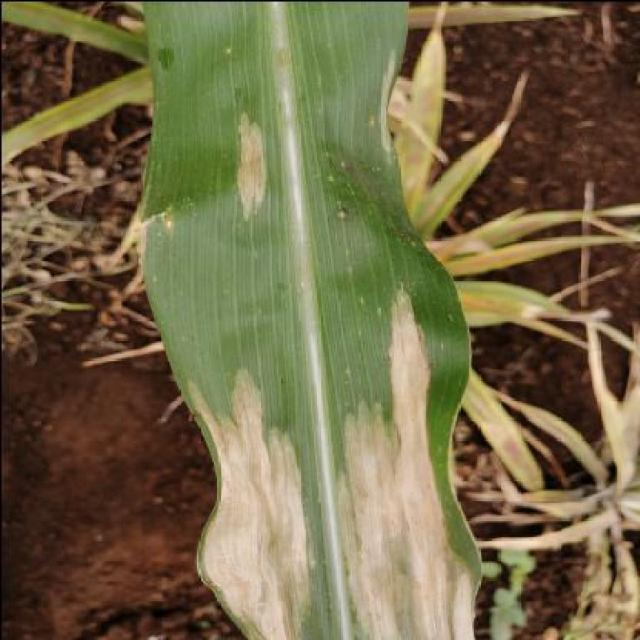Corn_Leaf_Blight: (136, 0, 487, 640)
